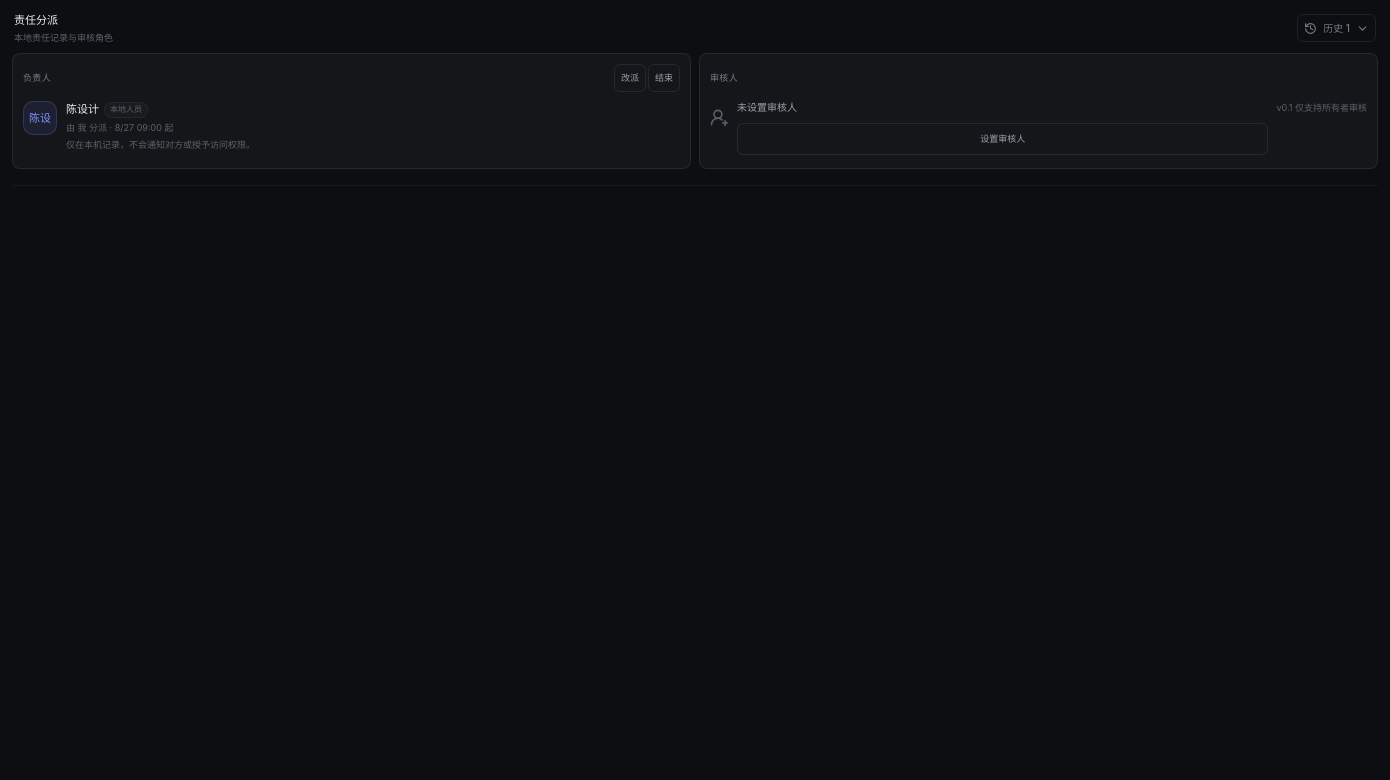
Test: TaskAssignmentsSection › keeps snapshots visible when the candidate query fails
expect the text "陈设计" is shown: met, box [66, 102, 99, 118]
Click the button "改派". click: (630, 78)
box: [614, 64, 646, 92]
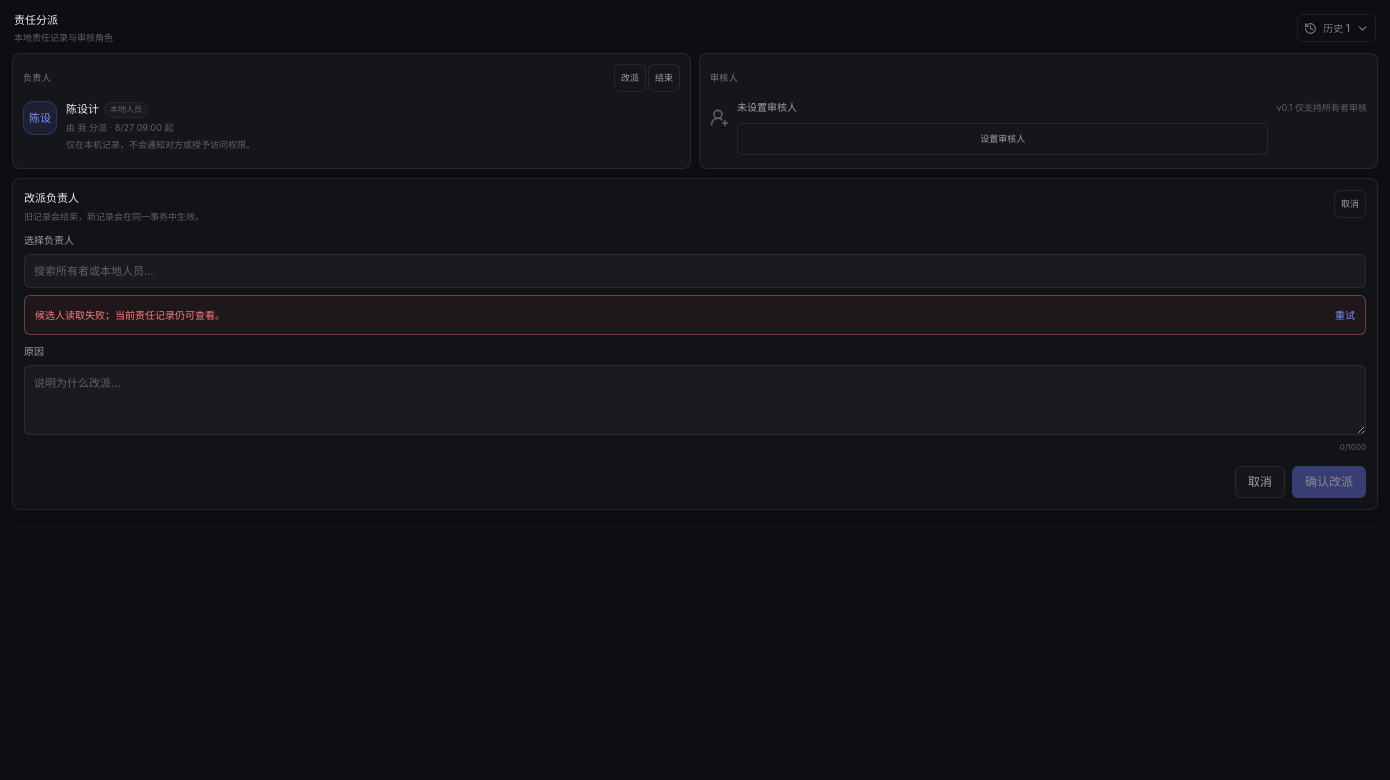
expect the text "陈设计" is shown: met, box [66, 102, 99, 118]
expect the text "候选人读取失败；当前责任记录仍可查看。" is shown: met, box [35, 308, 225, 320]
Click the button "历史 1". click: (1337, 28)
box: [1297, 14, 1376, 42]
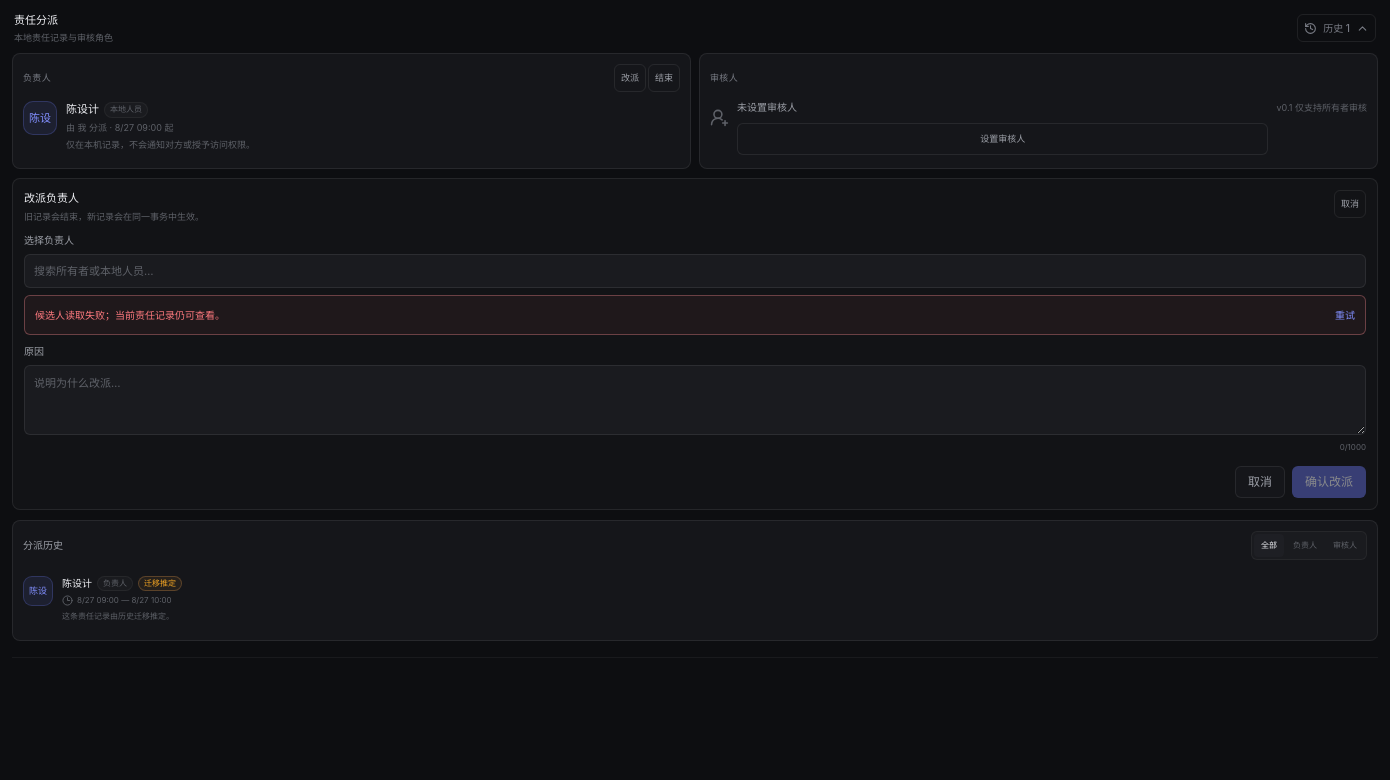
expect the text "迁移推定" is shown: met, box [138, 576, 182, 591]
